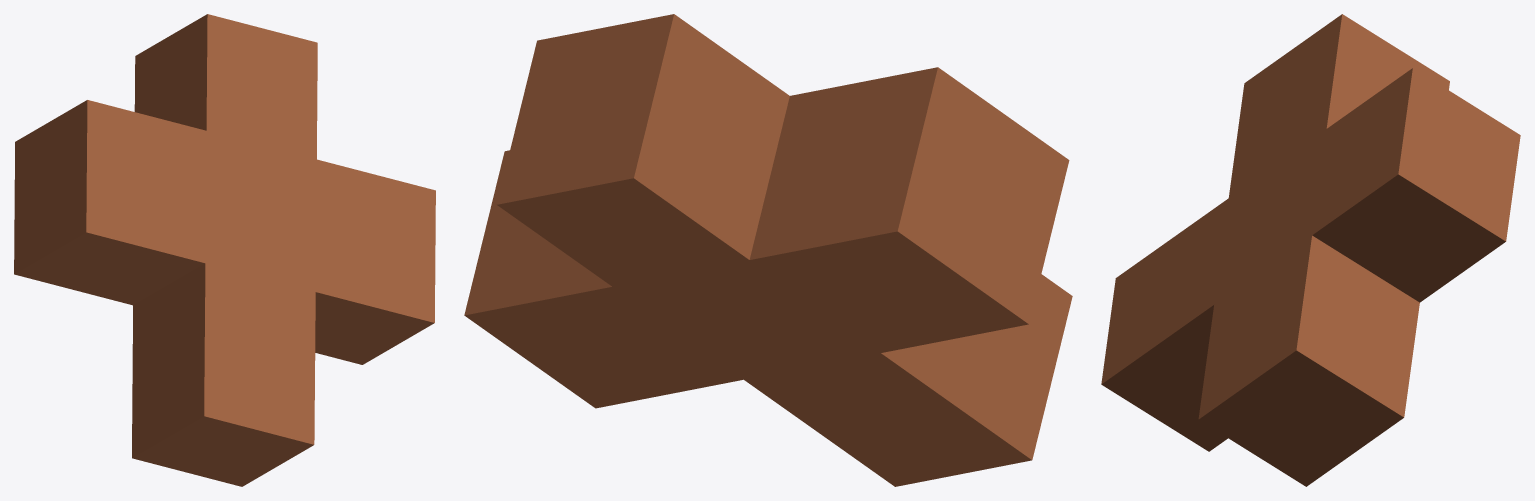
Rendered from ITEM X.fbx.
3 views of the same model, side by side, from view 1: azimuth 30°, elevation 25°; view 2: azimuth 150°, elevation 25°; view 3: azimuth 270°, elevation 25° (orthographic). The views are drawn at different scales.
Parts seen in each view (by area): view 1: Cubo; view 2: Cubo; view 3: Cubo.
Part boxes in pixels (left/top/right/bottom): Cubo: left=14, top=14, right=435, bottom=486; Cubo: left=464, top=14, right=1072, bottom=486; Cubo: left=1101, top=14, right=1520, bottom=486.
Bounding box in the file's own units: 693 × 650 × 595.
